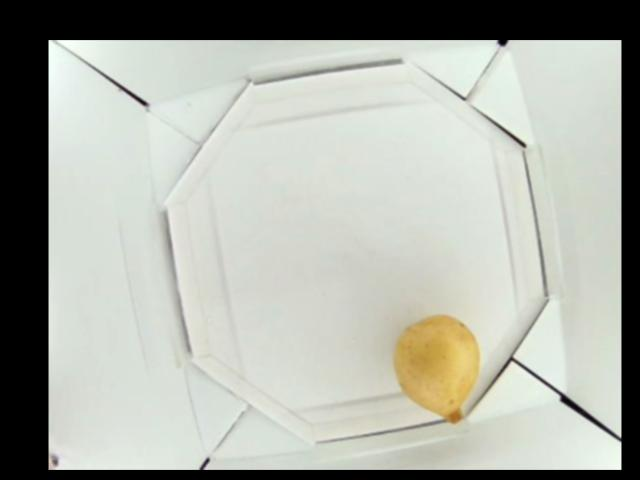Potato: (395, 313, 483, 424)
